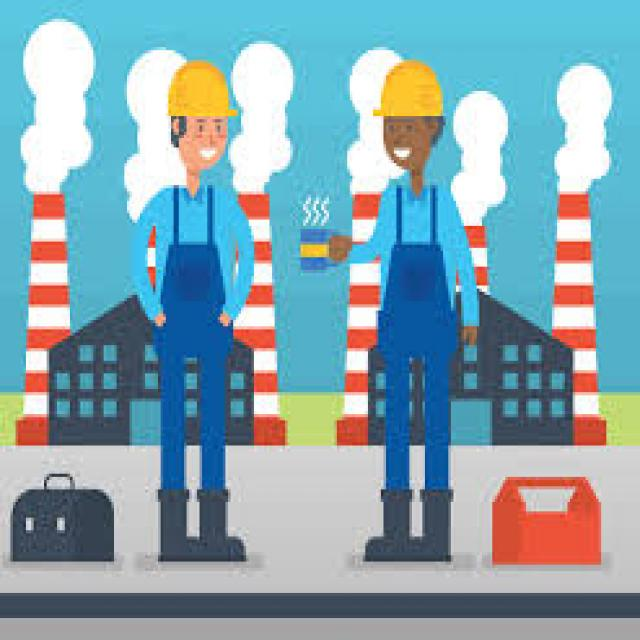Safety-Helmet: (371, 56, 448, 126), (164, 56, 238, 122)
